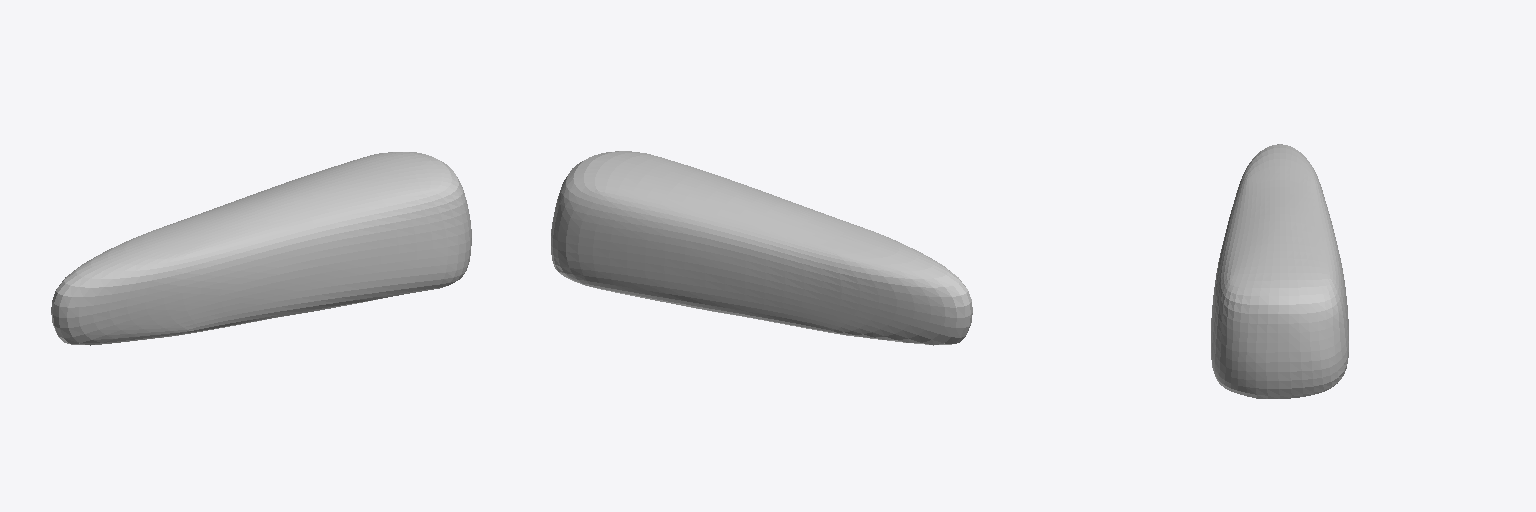
File: levetta.OBJ
3 views of the same model, side by side, from view 1: azimuth 30°, elevation 25°; view 2: azimuth 150°, elevation 25°; view 3: azimuth 270°, elevation 25° (orthographic).
Parts seen in each view (by area): view 1: ZBrush_defualt_group; view 2: ZBrush_defualt_group; view 3: ZBrush_defualt_group.
Part boxes in pixels (left/top/right/bottom): ZBrush_defualt_group: left=51, top=152, right=471, bottom=345; ZBrush_defualt_group: left=551, top=151, right=972, bottom=345; ZBrush_defualt_group: left=1211, top=144, right=1348, bottom=398.
Bounding box in the file's own units: 2.27 × 0.5953 × 0.6736.